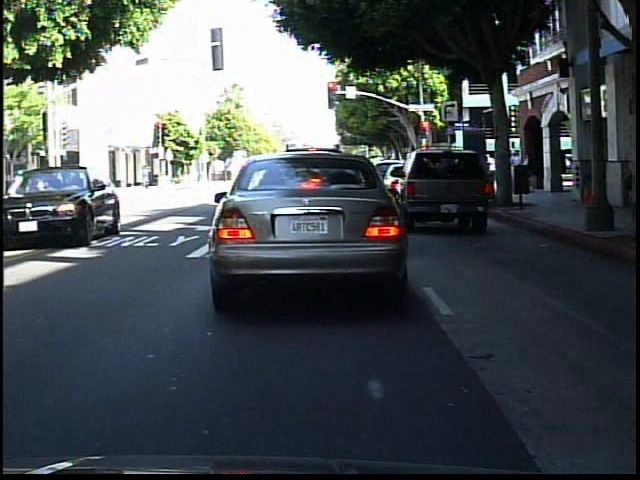person: (618, 141, 639, 220), (590, 143, 612, 217), (66, 161, 83, 201), (55, 163, 69, 206), (38, 168, 52, 206), (141, 161, 156, 192)
